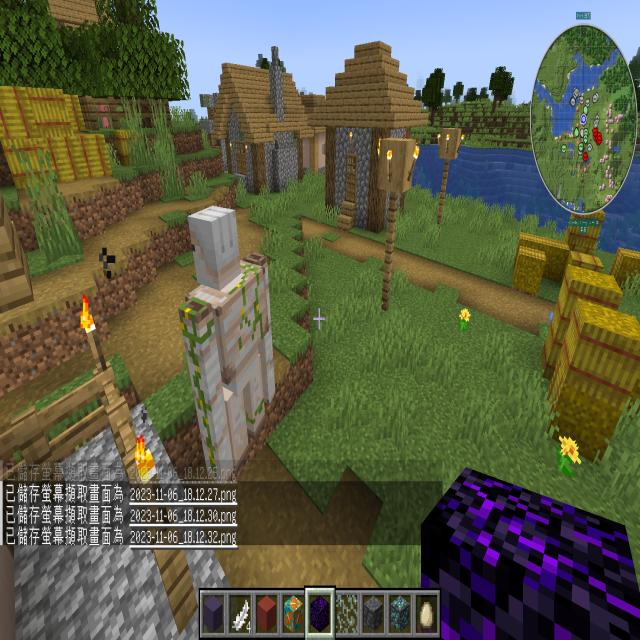iron golem: (170, 198, 284, 501)
pig: (96, 97, 118, 132)
